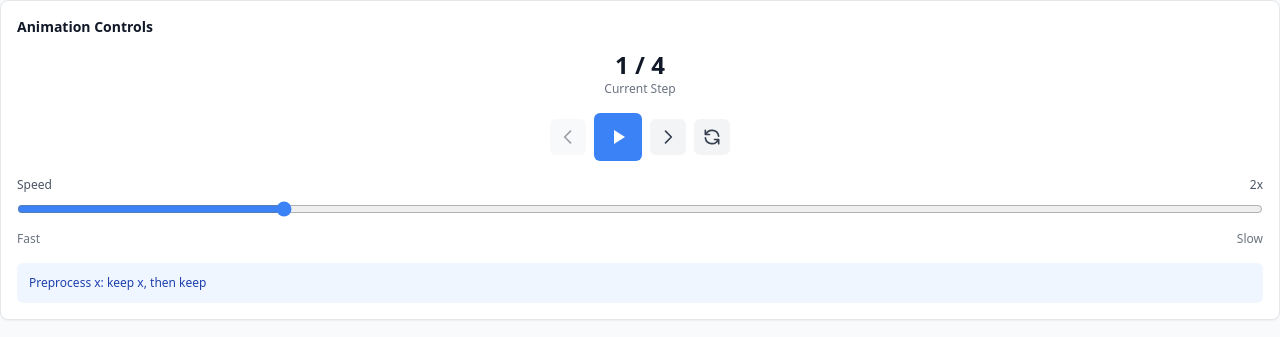
Test: StepController › toggles between play and pause
// Click to play
Click the button named "play".
click(618, 137)  # box left=594, top=113, right=642, bottom=161
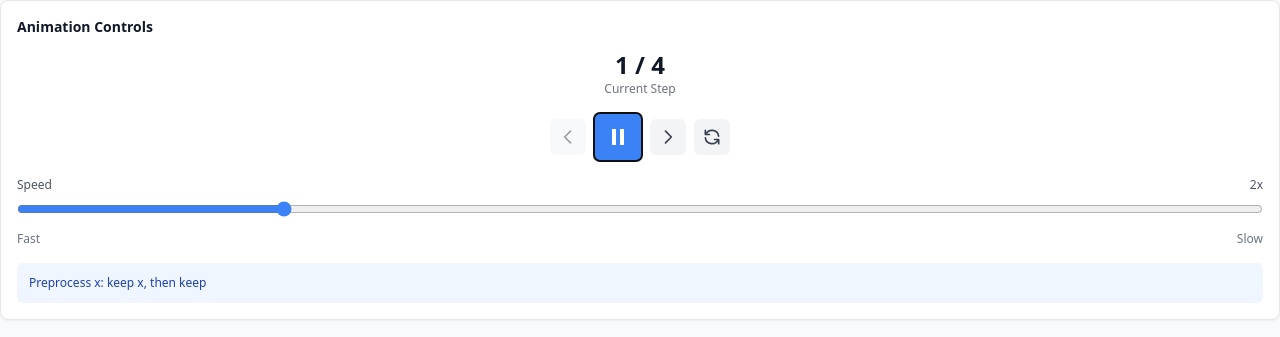
Check: the button named "pause" is shown, box left=594, top=113, right=642, bottom=161
